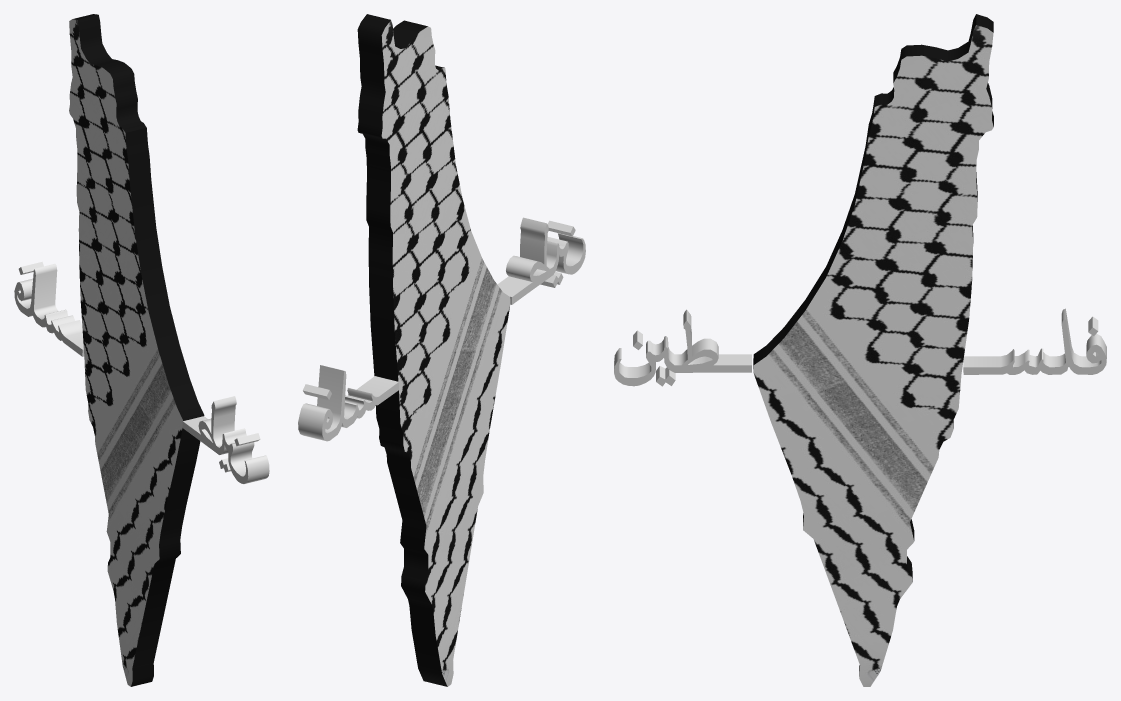
Rendered from palestine.fbx.
3 views of the same model, side by side, from view 1: azimuth 30°, elevation 25°; view 2: azimuth 150°, elevation 25°; view 3: azimuth 270°, elevation 25° (orthographic). The views are drawn at different scales.
Parts seen in each view (by area): view 1: Cube, Plane; view 2: Cube, Plane; view 3: Cube, Plane.
Part boxes in pixels (x1,y1,x2,y2): Cube: (69,14,204,686); Plane: (14,261,269,483); Cube: (357,14,510,686); Plane: (298,217,585,441); Cube: (753,14,993,686); Plane: (614,308,1106,386).
Bounding box in the file's own units: 52.2 × 1405 × 948.
